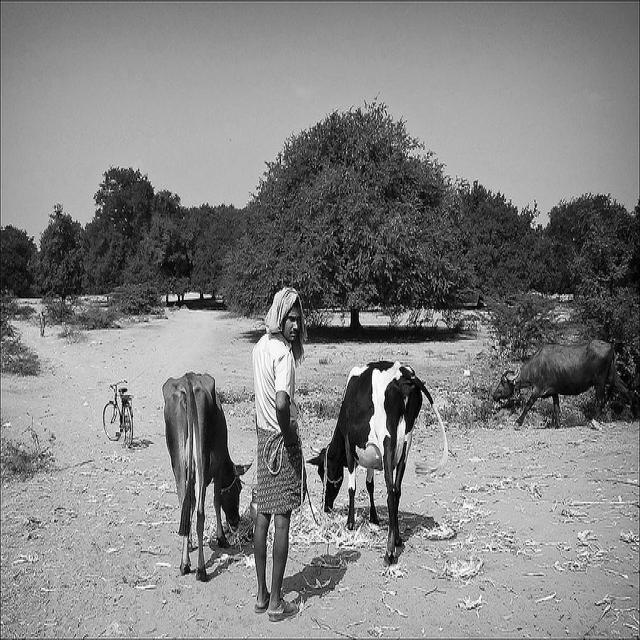cow: (303, 358, 446, 564), (161, 371, 253, 579), (492, 336, 639, 428)
